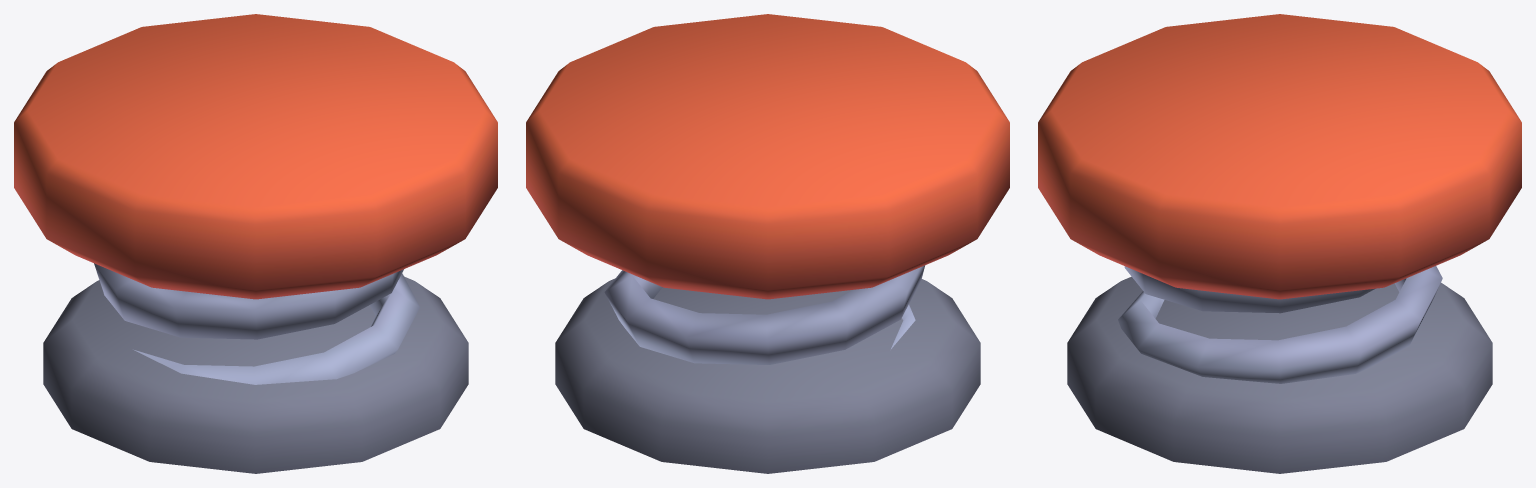
The model's file is pu-jump.glb.
The picture shows the model from 3 angles, left to right: view 1: azimuth 30°, elevation 25°; view 2: azimuth 150°, elevation 25°; view 3: azimuth 270°, elevation 25°; orthographic projection.
Parts seen in each view (by area): view 1: spring; view 2: spring; view 3: spring.
Part boxes in pixels (x1,y1,x2,y2): spring: (14,14,497,473); spring: (526,14,1009,473); spring: (1038,14,1521,473).
Bounding box in the file's own units: 0.75 × 0.4679 × 0.75.
1 material, 1 textured.
